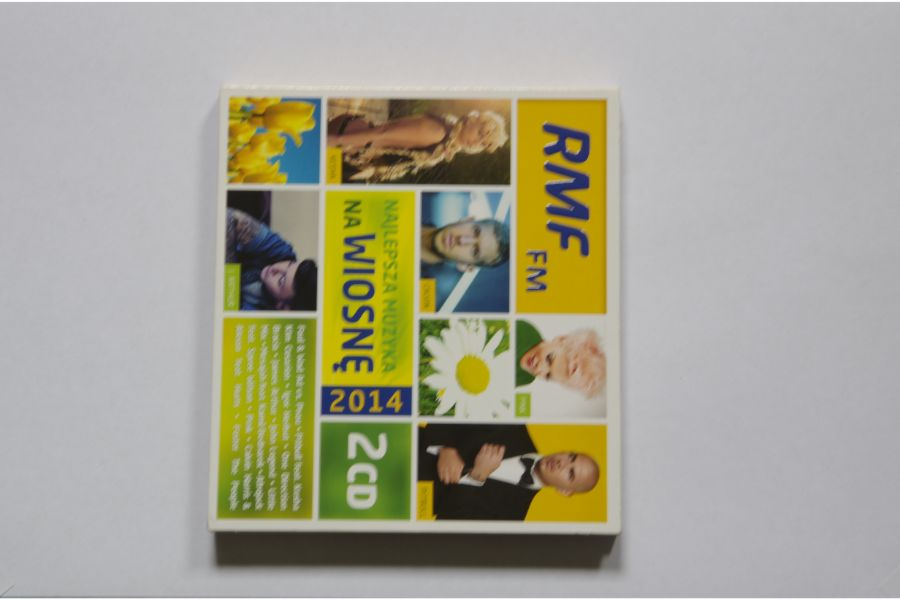album: (206, 82, 627, 535)
